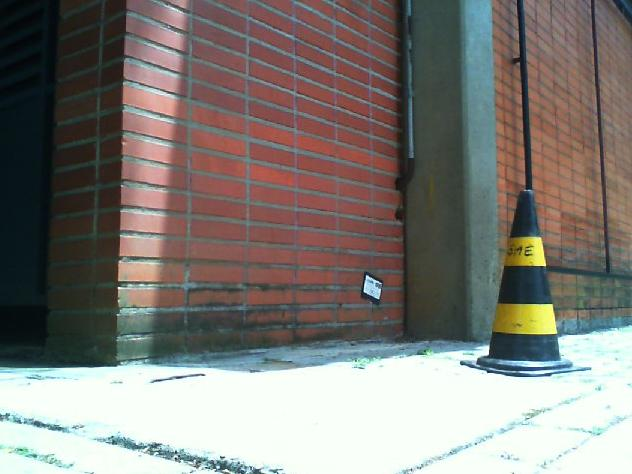0 cone: (461, 191, 590, 378)
